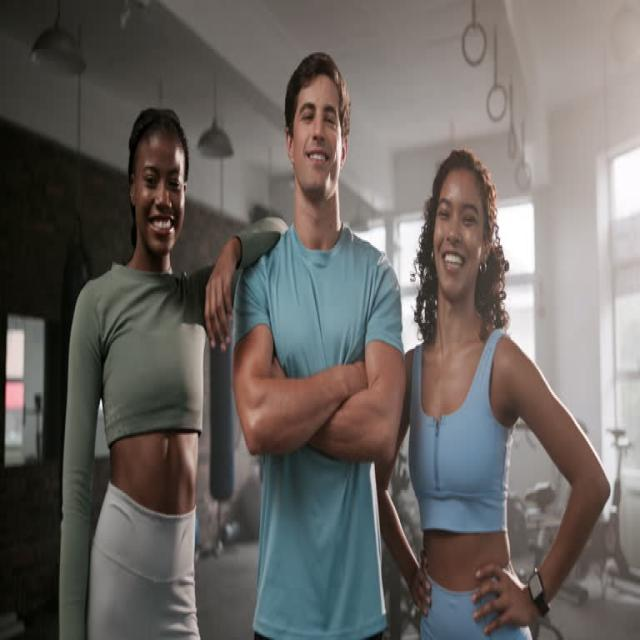no_helmet: (420, 219, 510, 288), (284, 165, 364, 238), (122, 187, 194, 257)
